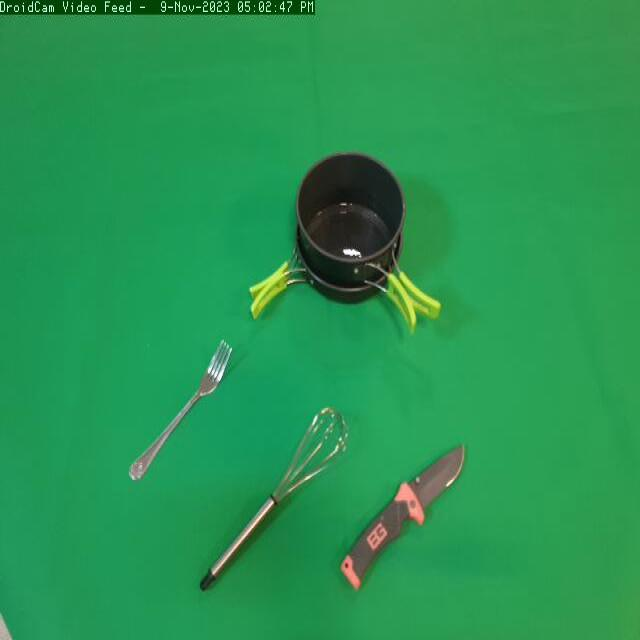fork: (115, 322, 240, 494)
knife: (339, 433, 481, 600)
pan: (241, 220, 406, 329)
pot: (298, 147, 455, 334)
whisk: (190, 399, 350, 609)
